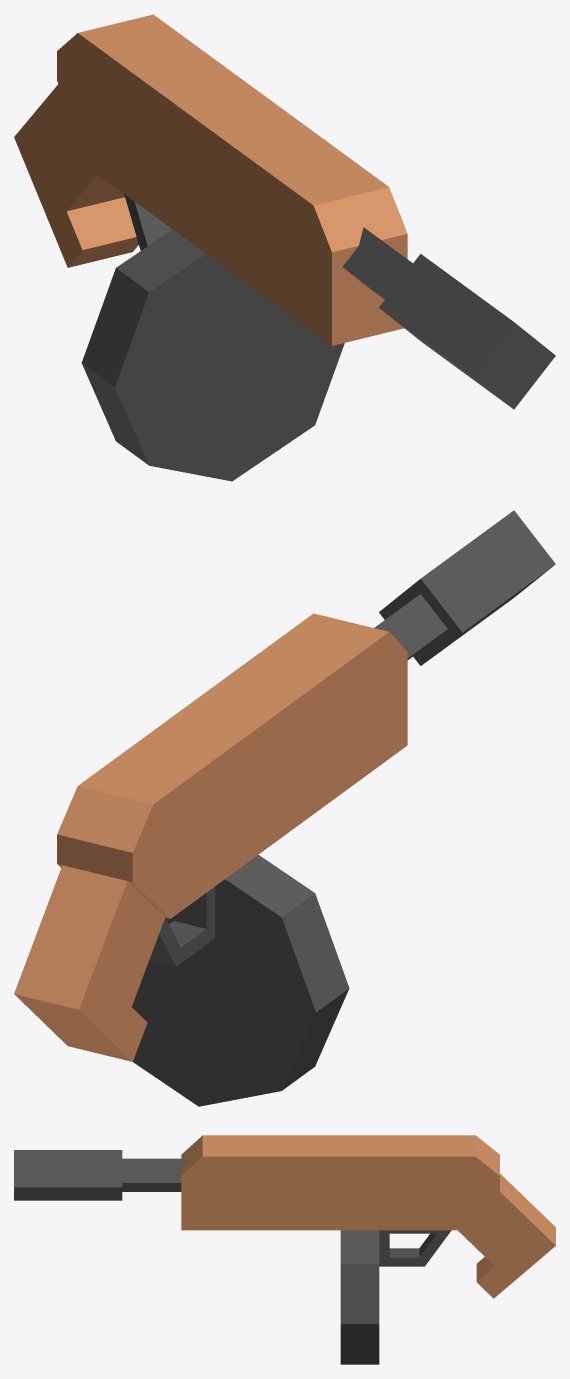
Rendered from ppsh.fbx.
3 renders of one model, top to bottom at view 1: azimuth 30°, elevation 25°; view 2: azimuth 150°, elevation 25°; view 3: azimuth 270°, elevation 25°, orthographic. The views are drawn at different scales.
Parts seen in each view (by area): view 1: ppsh; view 2: ppsh; view 3: ppsh.
Boxes of the visible parts, x1,y1,x2,y2 form: ppsh: [14, 14, 555, 481]; ppsh: [14, 510, 555, 1106]; ppsh: [14, 1135, 555, 1364].
Size of the model in its own units: 0.3143 by 0.4769 by 1.09.
